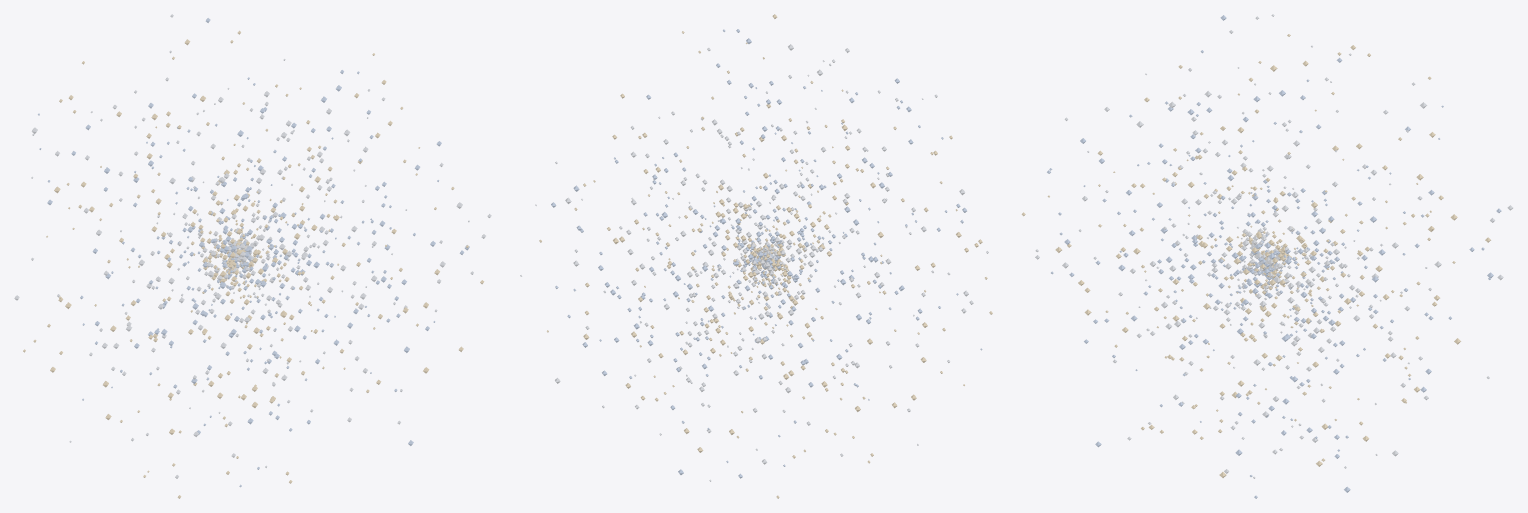
The picture shows the model from 3 angles, left to right: view 1: azimuth 30°, elevation 25°; view 2: azimuth 150°, elevation 25°; view 3: azimuth 270°, elevation 25°; orthographic projection. The views are drawn at different scales.
Bounding box in the file's own units: 5.05 × 4.93 × 5.05.
